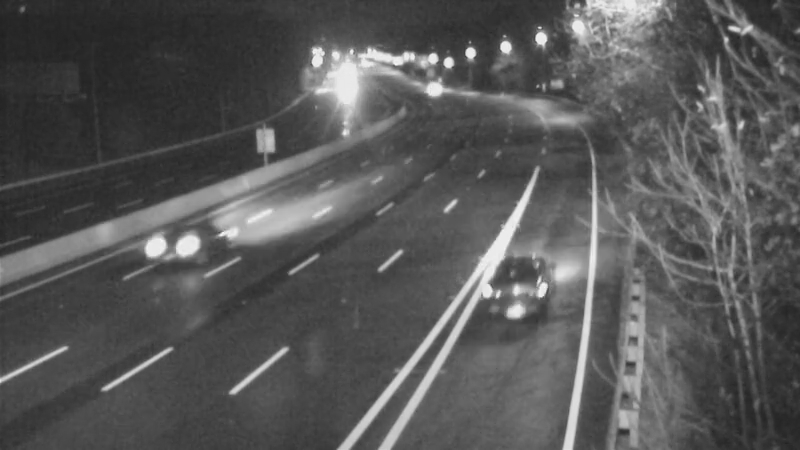vehicle: (467, 258, 547, 338), (139, 209, 219, 289), (400, 63, 450, 113)
